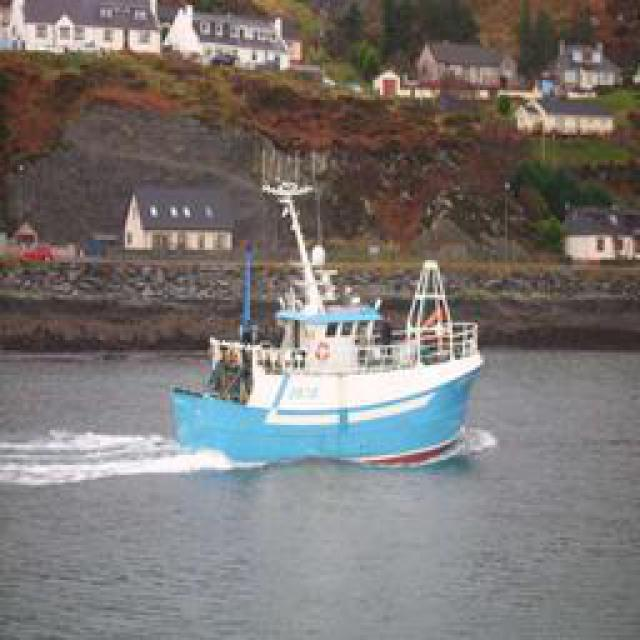Ship: (167, 178, 487, 466)
